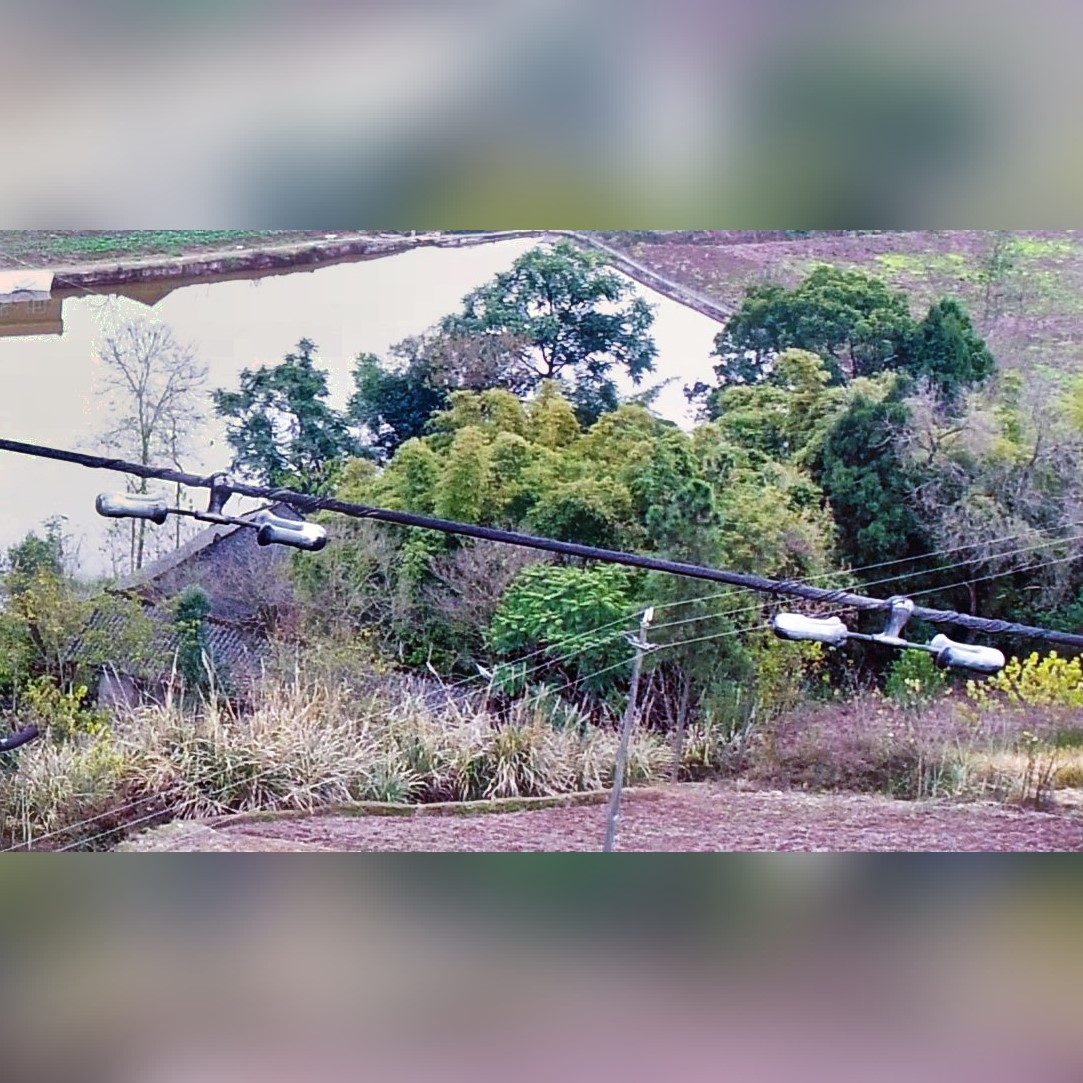Shockproof hammer: (90, 454, 339, 561), (762, 579, 1011, 686)
